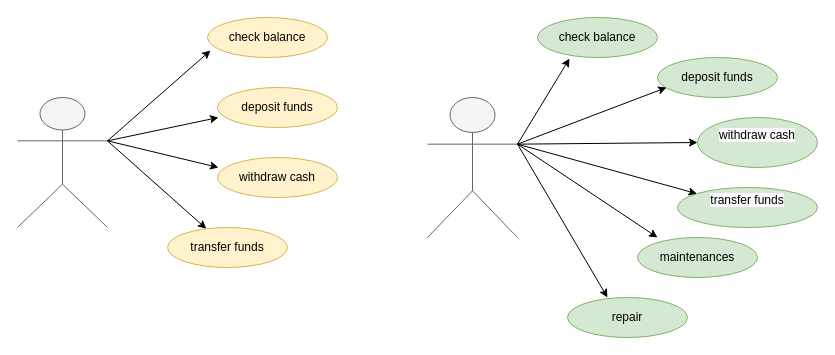
The diagram is 835 pixels wide and 355 high, and some of its shapes have lost their labels. Here are the shapes that lost their labels. From the top down, the box of each, then its label:
(16, 96, 108, 228): user
(426, 96, 518, 238): Admin
